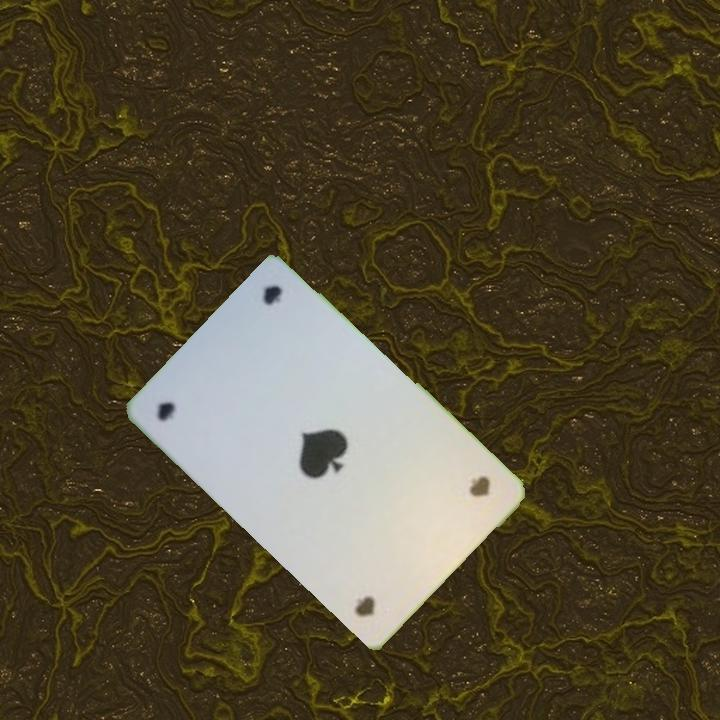s_a.png: (144, 338, 273, 468), (380, 433, 508, 563)
